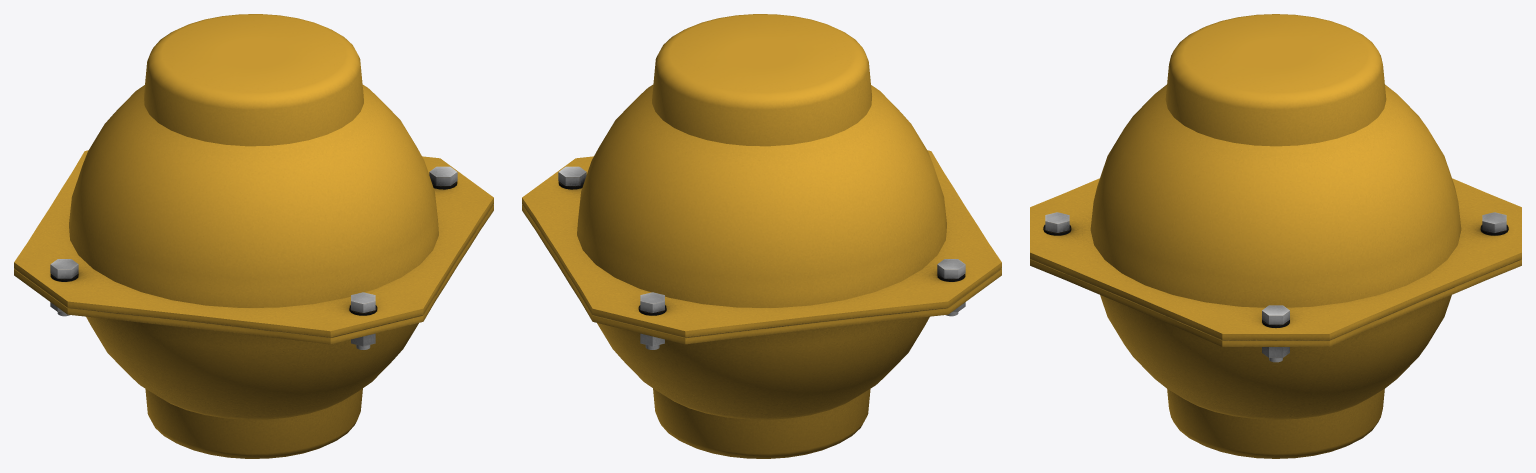
The model's file is hardhat_standard.dae.
3 renders of one model, left to right at view 1: azimuth 30°, elevation 25°; view 2: azimuth 150°, elevation 25°; view 3: azimuth 270°, elevation 25°, orthographic.
Parts seen in each view (by area): view 1: Standard; view 2: Standard; view 3: Standard.
Part boxes in pixels (x1,y1,x2,y2): Standard: (14, 14, 493, 458); Standard: (522, 14, 1001, 458); Standard: (1030, 14, 1521, 458).
Size of the model in its own units: 0.5891 by 0.5891 by 0.4825.
Materials: 1 (1 with a texture image).
